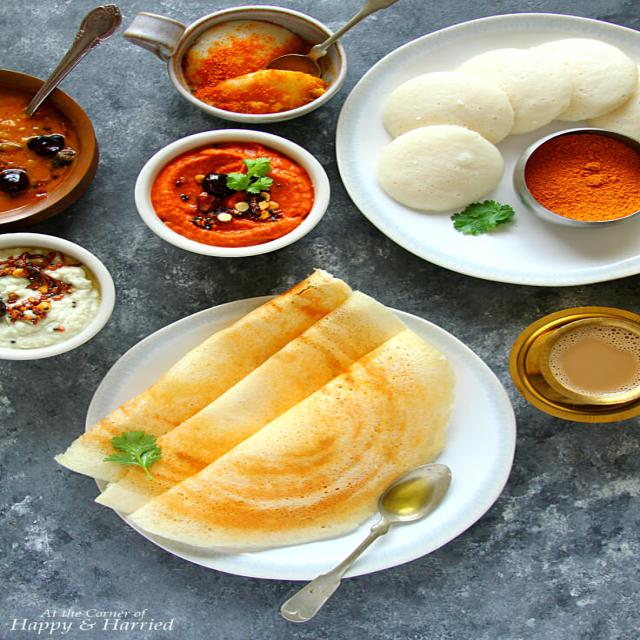DOSA: (59, 268, 464, 561)
IDLI: (361, 30, 639, 214)
